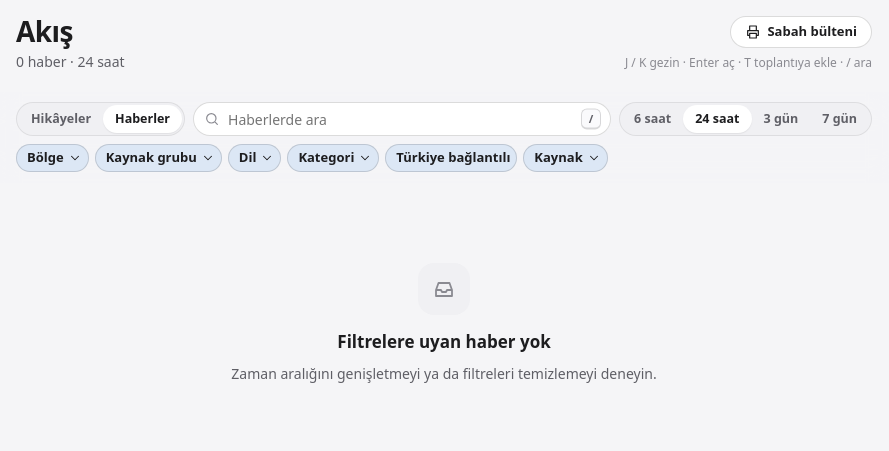
Test: FeedPage › shows the search empty state and passes the query to the API
Type "ırak" into the search field at coordinates (402, 119), box [193,102,611,136]
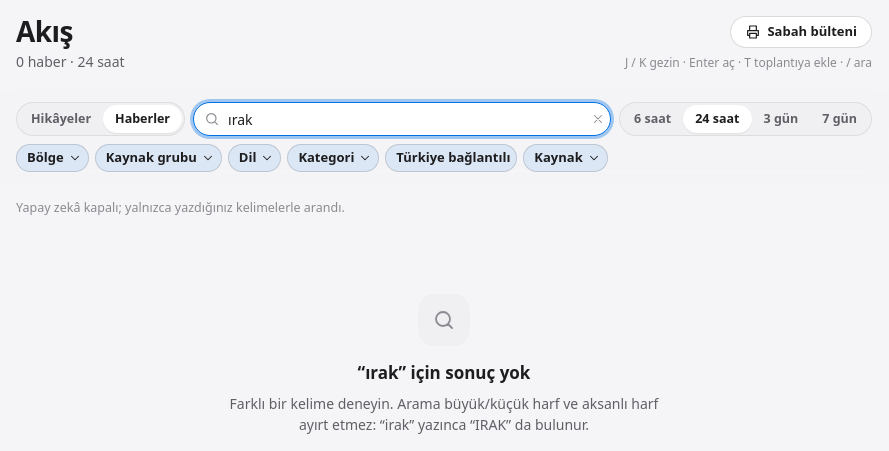
Result: the text "“ırak” için sonuç yok" is shown at [358,360,530,385]
Result: the text "Yapay zekâ kapalı; yalnızca yazdığınız kelimelerle arandı." is shown at [16,199,345,216]
